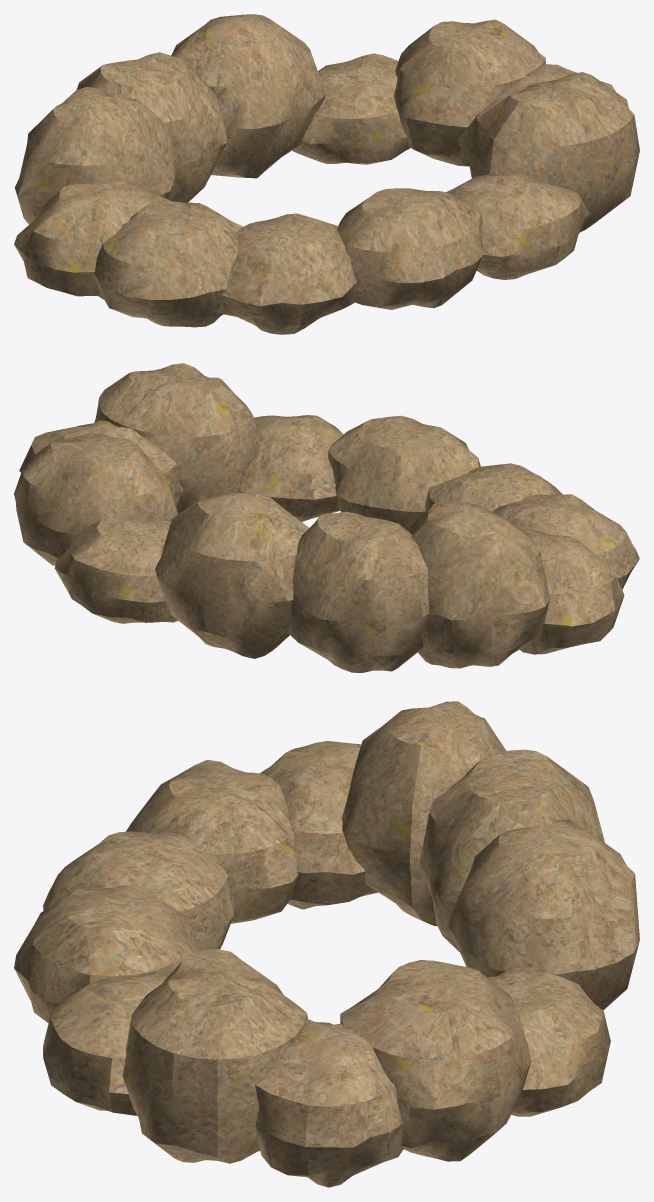
File: piedras_100.glb
3 renders of one model, top to bottom at view 1: azimuth 30°, elevation 25°; view 2: azimuth 150°, elevation 25°; view 3: azimuth 270°, elevation 25°, orthographic. The views are drawn at different scales.
Parts seen in each view (by area): view 1: piedras_100; view 2: piedras_100; view 3: piedras_100.
Boxes of the visible parts, x1,y1,x2,y2 form: piedras_100: (14, 14, 639, 334); piedras_100: (14, 363, 639, 672); piedras_100: (14, 701, 639, 1187).
Bounding box in the file's own units: 0.97 × 0.2499 × 0.686.
1 material, 1 textured.
